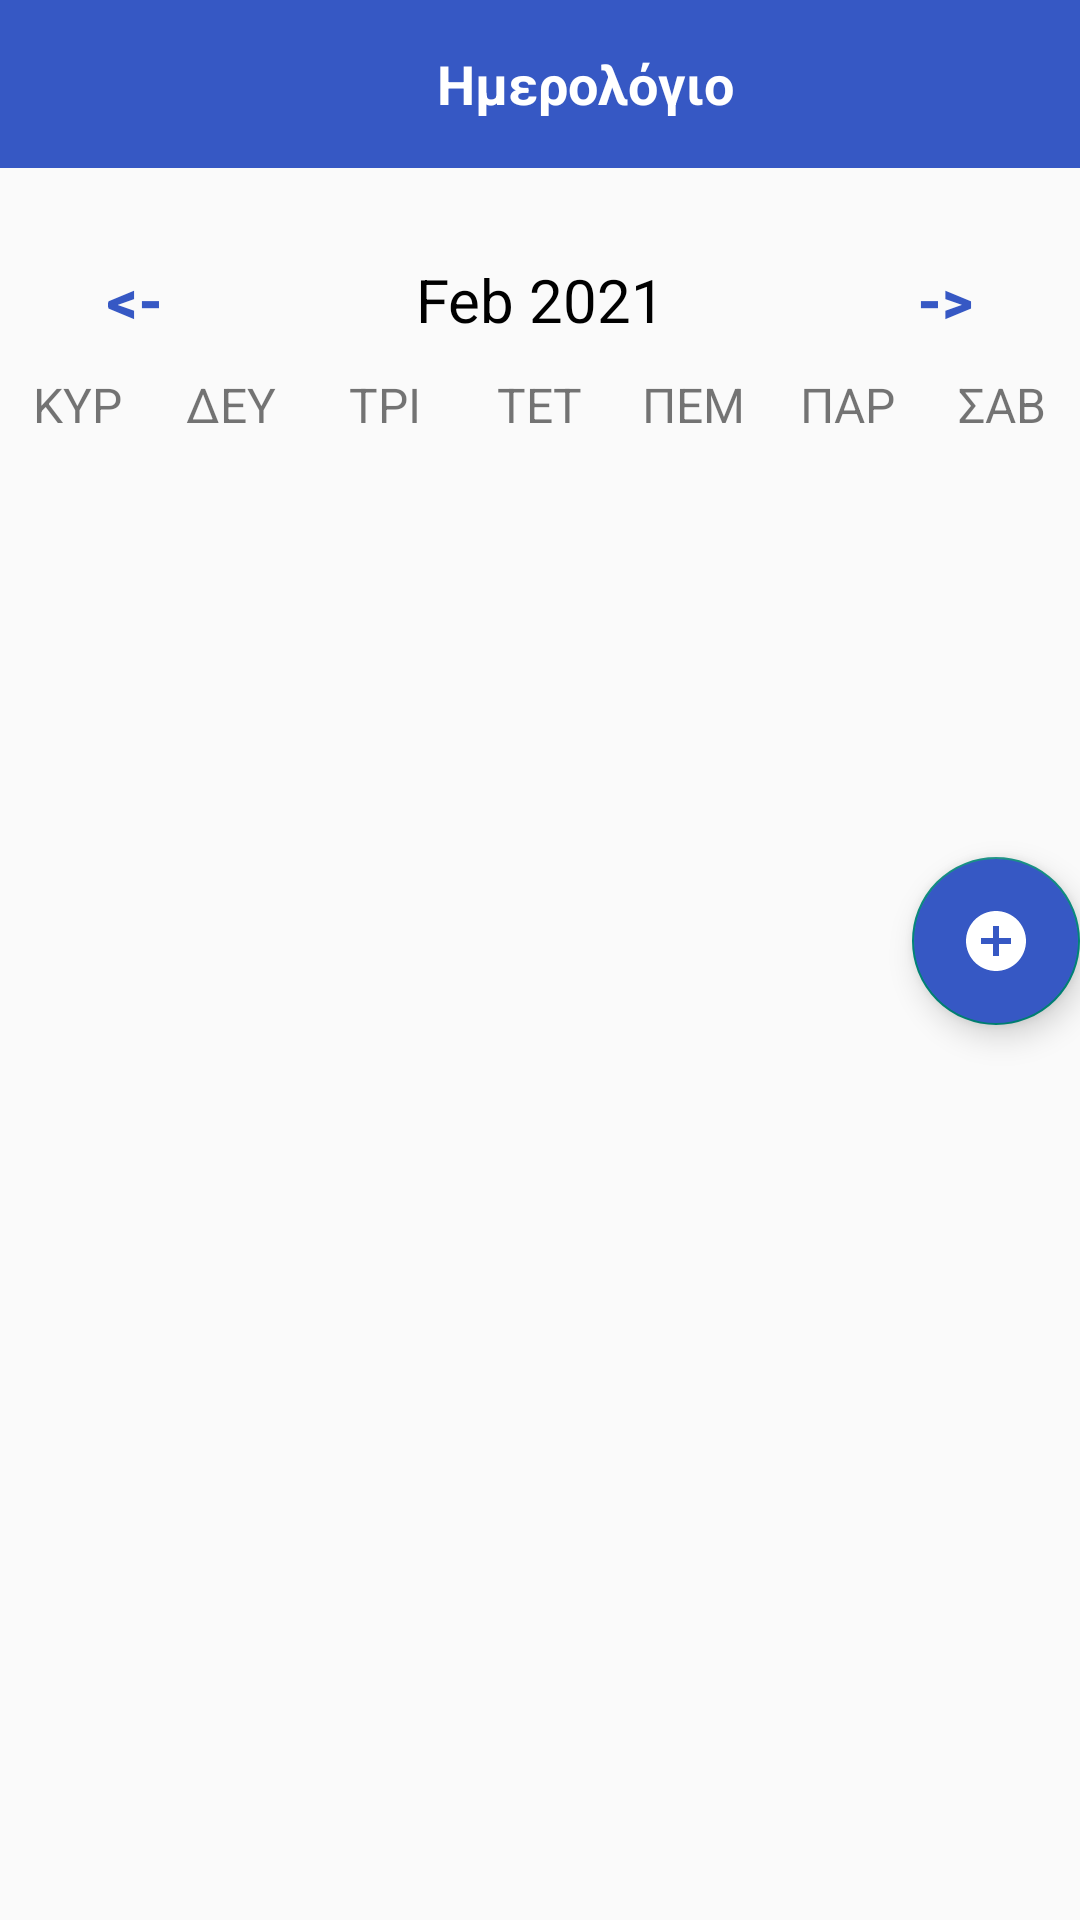

Icon bounding boxes for this 1080 x 1920 phone screenshot, format [x1=x1, y1=y1, x2=x2, y2=y2]:
add: [x1=912, y1=857, x2=1080, y2=1025]
